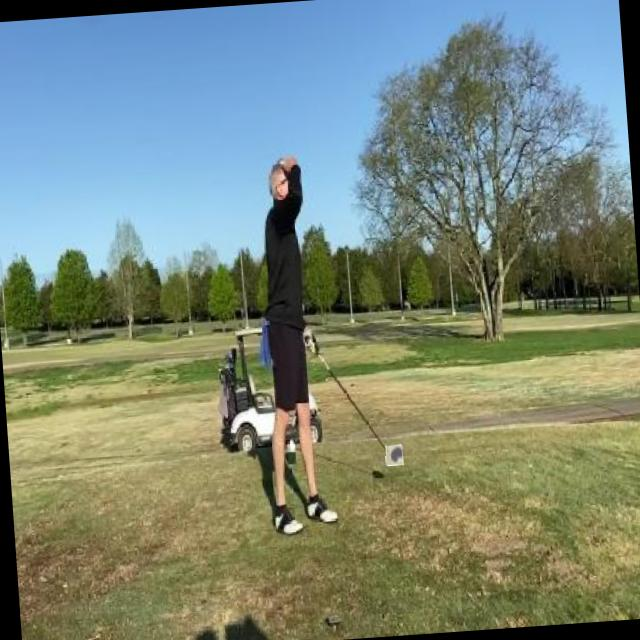club head: (385, 444, 403, 466)
